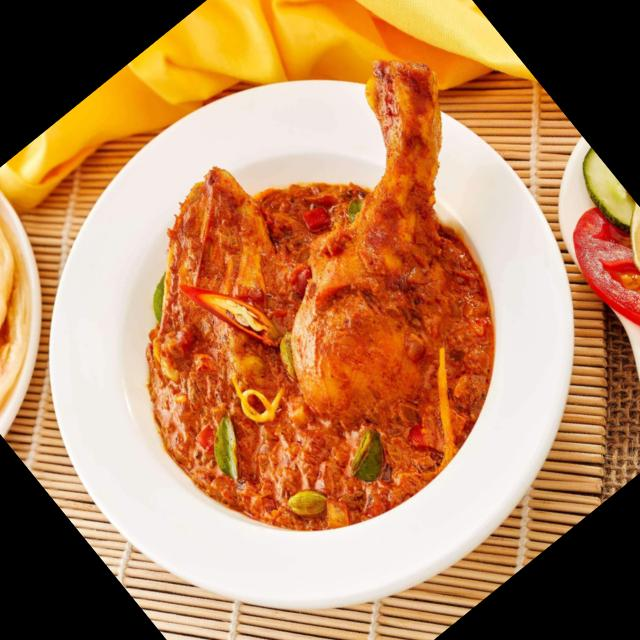chicken: (60, 50, 590, 575)
